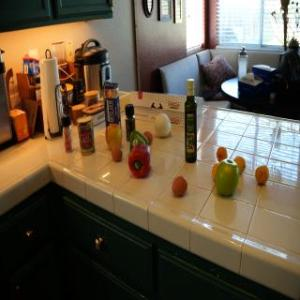bell_pepper: (126, 147, 152, 178), (128, 132, 150, 150)
egg: (170, 176, 189, 198), (111, 144, 123, 166), (142, 126, 152, 142)
onion: (152, 114, 174, 136)
